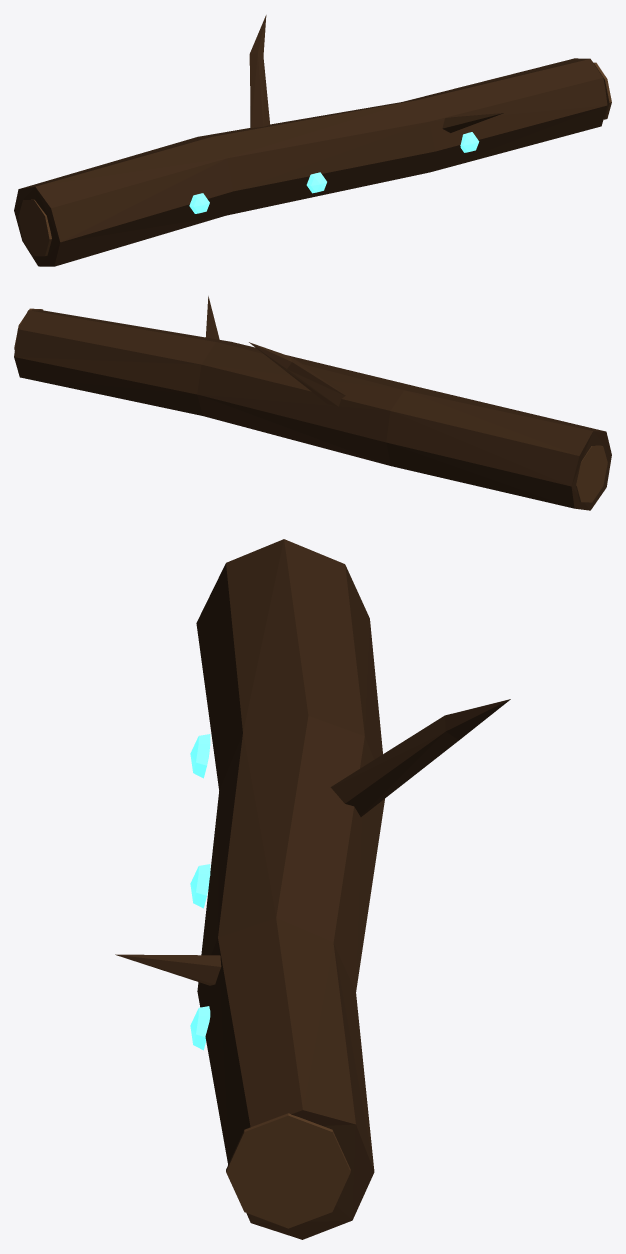
The model's file is tronco_caido.fbx.
3 views of the same model, one above another, from view 1: azimuth 30°, elevation 25°; view 2: azimuth 150°, elevation 25°; view 3: azimuth 270°, elevation 25° (orthographic). The views are drawn at different scales.
Visible parts, largest first — view 1: tronco_caido; view 2: tronco_caido; view 3: tronco_caido.
Boxes of the visible parts, x1,y1,x2,y2 form: tronco_caido: (14, 15, 611, 266); tronco_caido: (14, 296, 611, 510); tronco_caido: (115, 539, 510, 1239).
Size of the model in its own units: 6.89 by 1.64 by 2.1.
